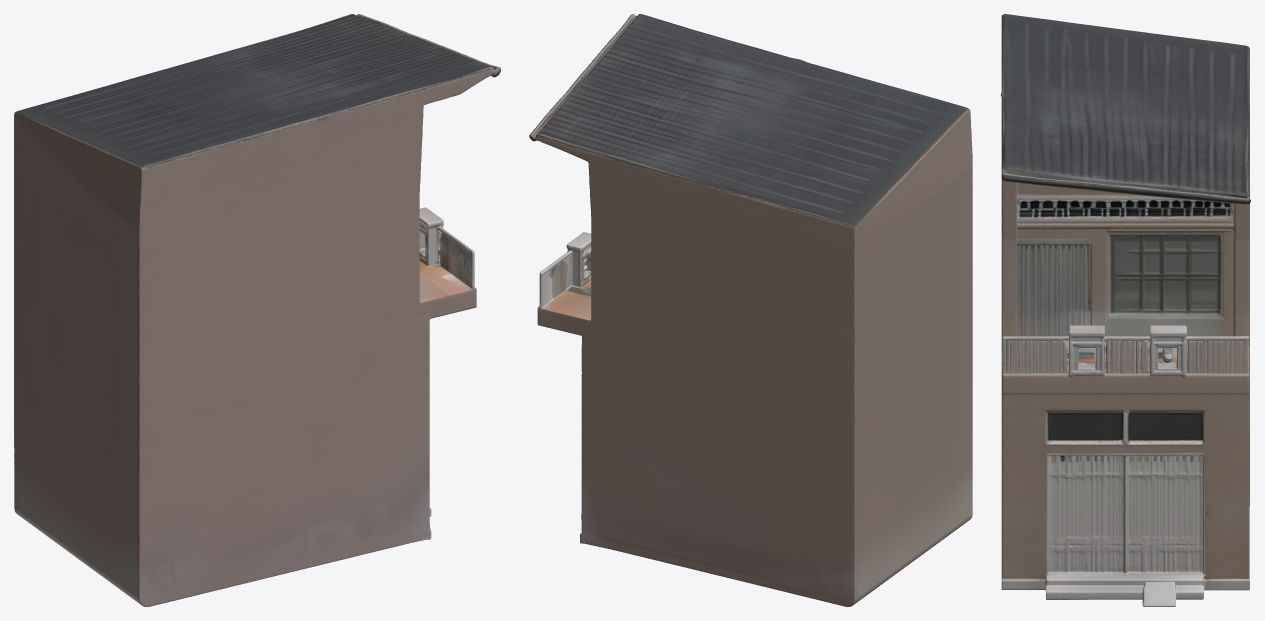
File: nha1.fbx
3 views of the same model, side by side, from view 1: azimuth 30°, elevation 25°; view 2: azimuth 150°, elevation 25°; view 3: azimuth 270°, elevation 25° (orthographic). The views are drawn at different scales.
Visible parts, largest first — view 1: tripo_node_bc4df68e-ac1f-4b4b-a88f-ef391a79e80a; view 2: tripo_node_bc4df68e-ac1f-4b4b-a88f-ef391a79e80a; view 3: tripo_node_bc4df68e-ac1f-4b4b-a88f-ef391a79e80a.
Part boxes in pixels (x1,y1,x2,y2): tripo_node_bc4df68e-ac1f-4b4b-a88f-ef391a79e80a: [14, 14, 500, 606]; tripo_node_bc4df68e-ac1f-4b4b-a88f-ef391a79e80a: [529, 14, 972, 606]; tripo_node_bc4df68e-ac1f-4b4b-a88f-ef391a79e80a: [1001, 14, 1250, 606].
Bounding box in the file's own units: 83.05 × 100 × 50.06.
